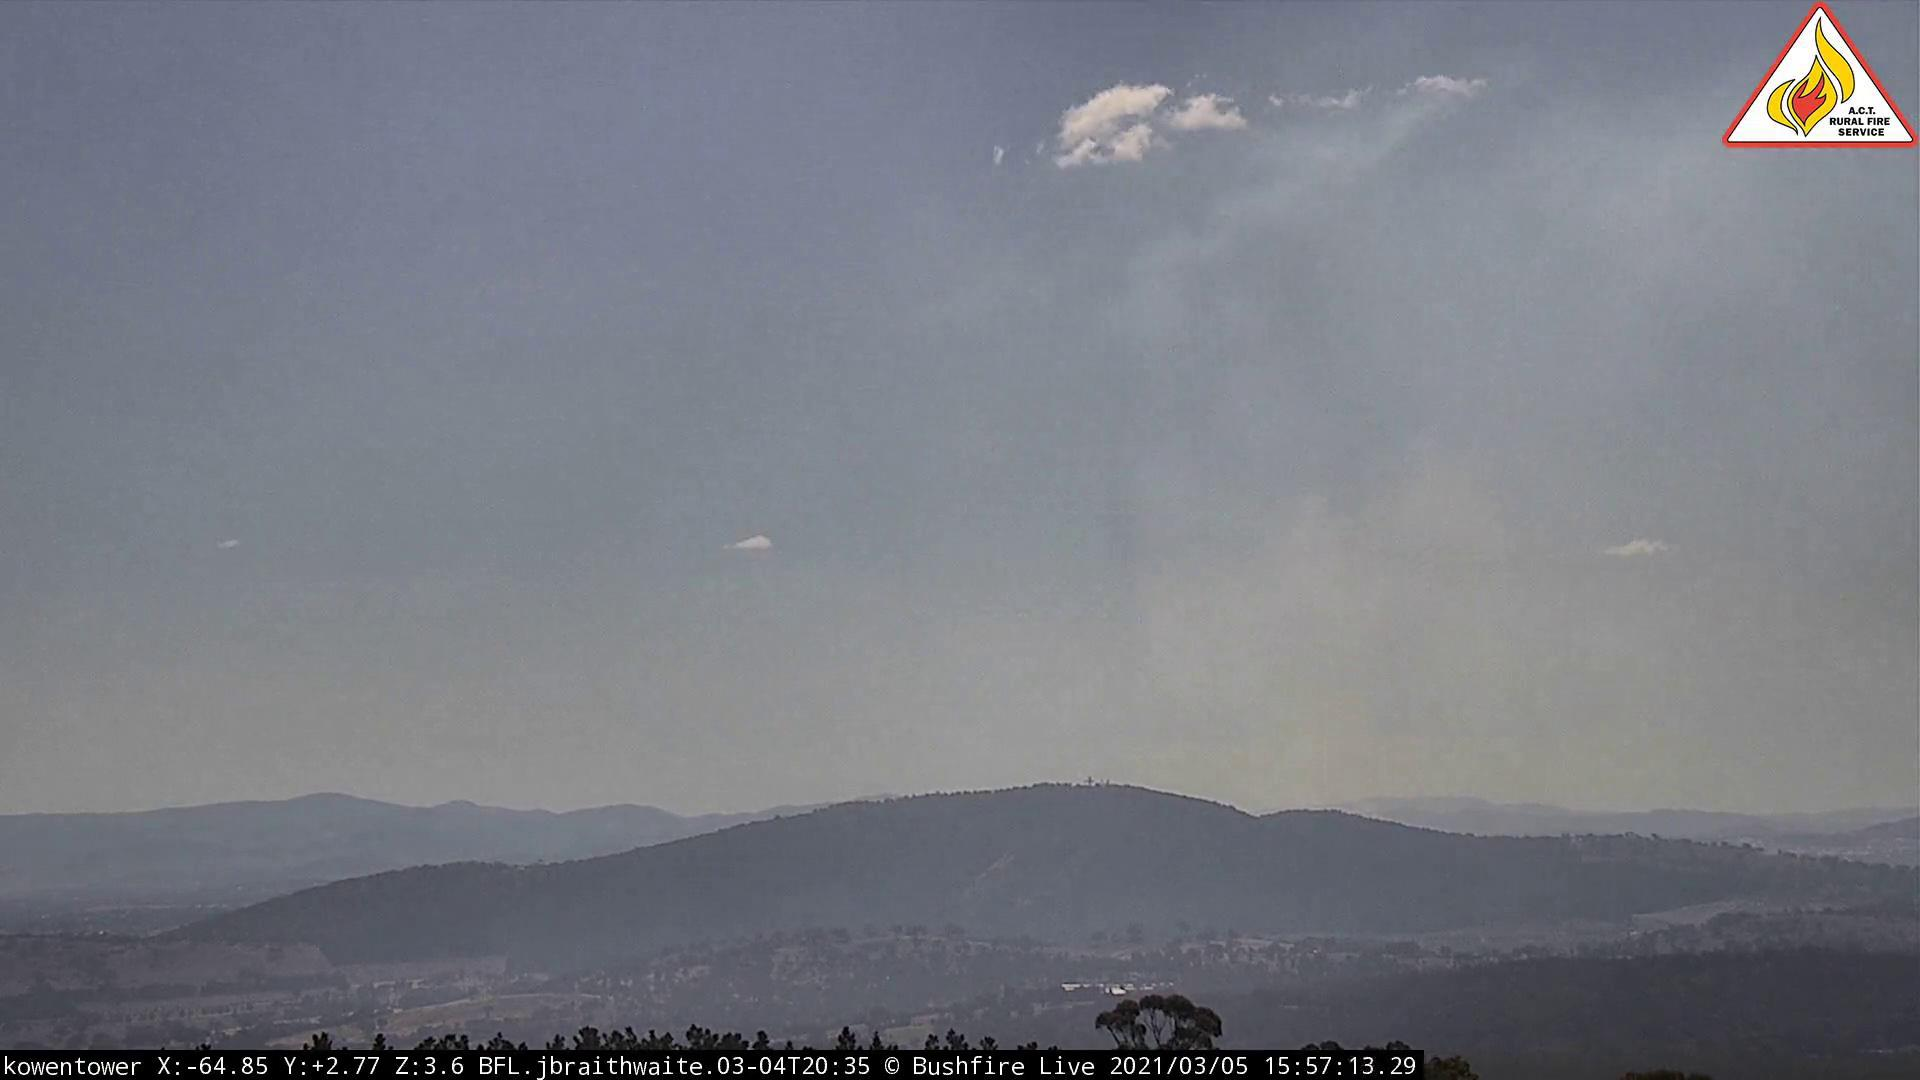Smoke: (985, 73, 1615, 824)
